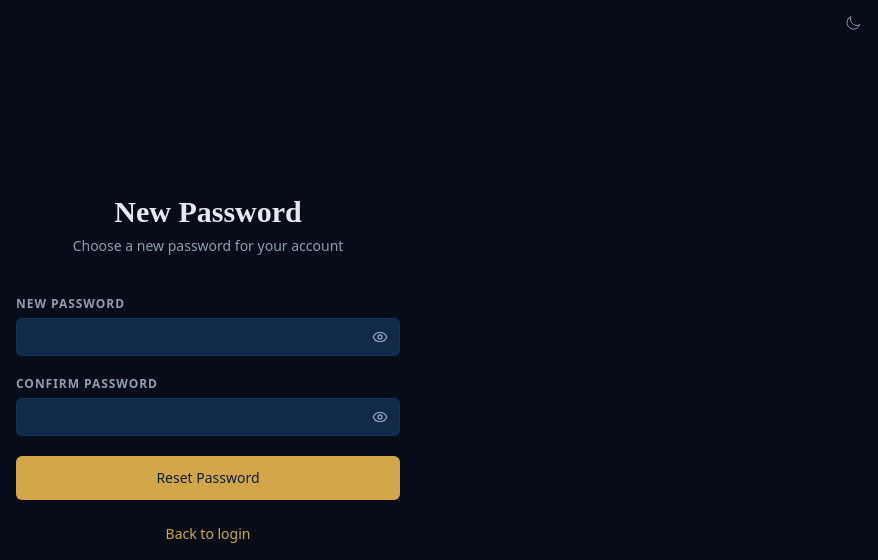
Test case: reset-password page, token in the URL (FE-03) › drops the token from the address bar and still posts it on submit
Type "new-pass-1234" into the password field labelled "New Password" at (208, 337), box [16,318,400,356]
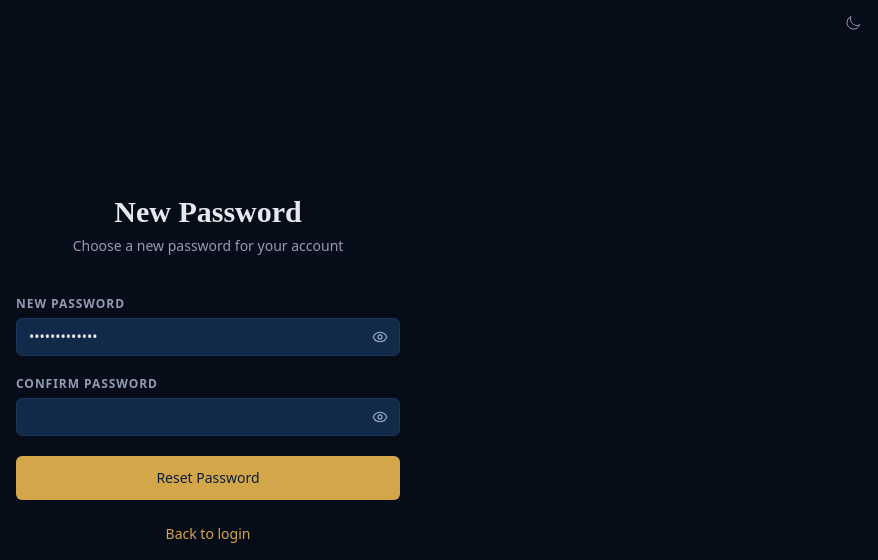
Type "new-pass-1234" into the password field labelled "Confirm Password" at (208, 417), box [16,398,400,436]
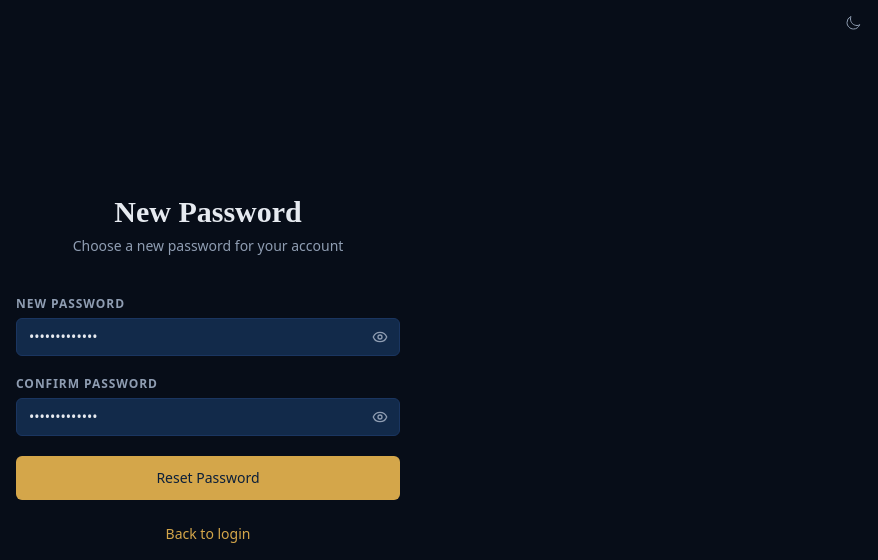
Click the button "Reset Password" at (208, 478), box [16,456,400,500]
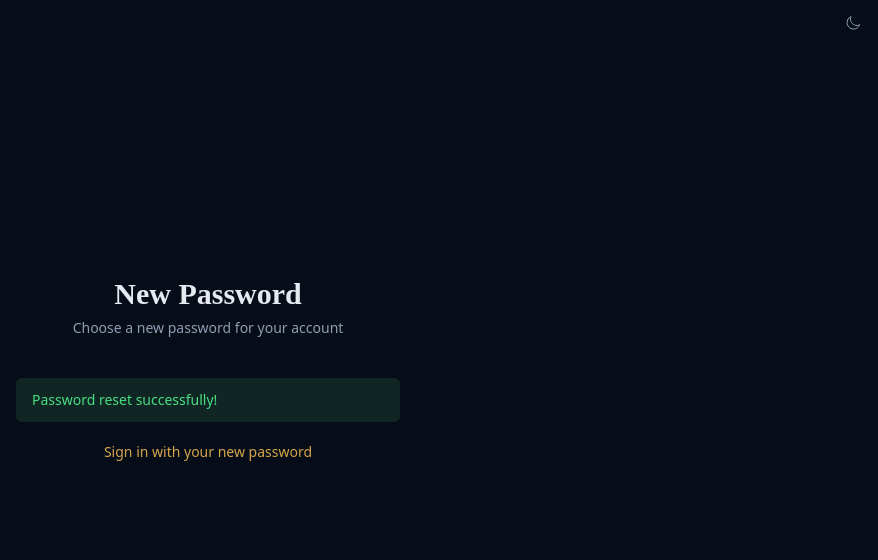
Now the text "Password reset successfully!" is shown, box [16,378,400,422]
